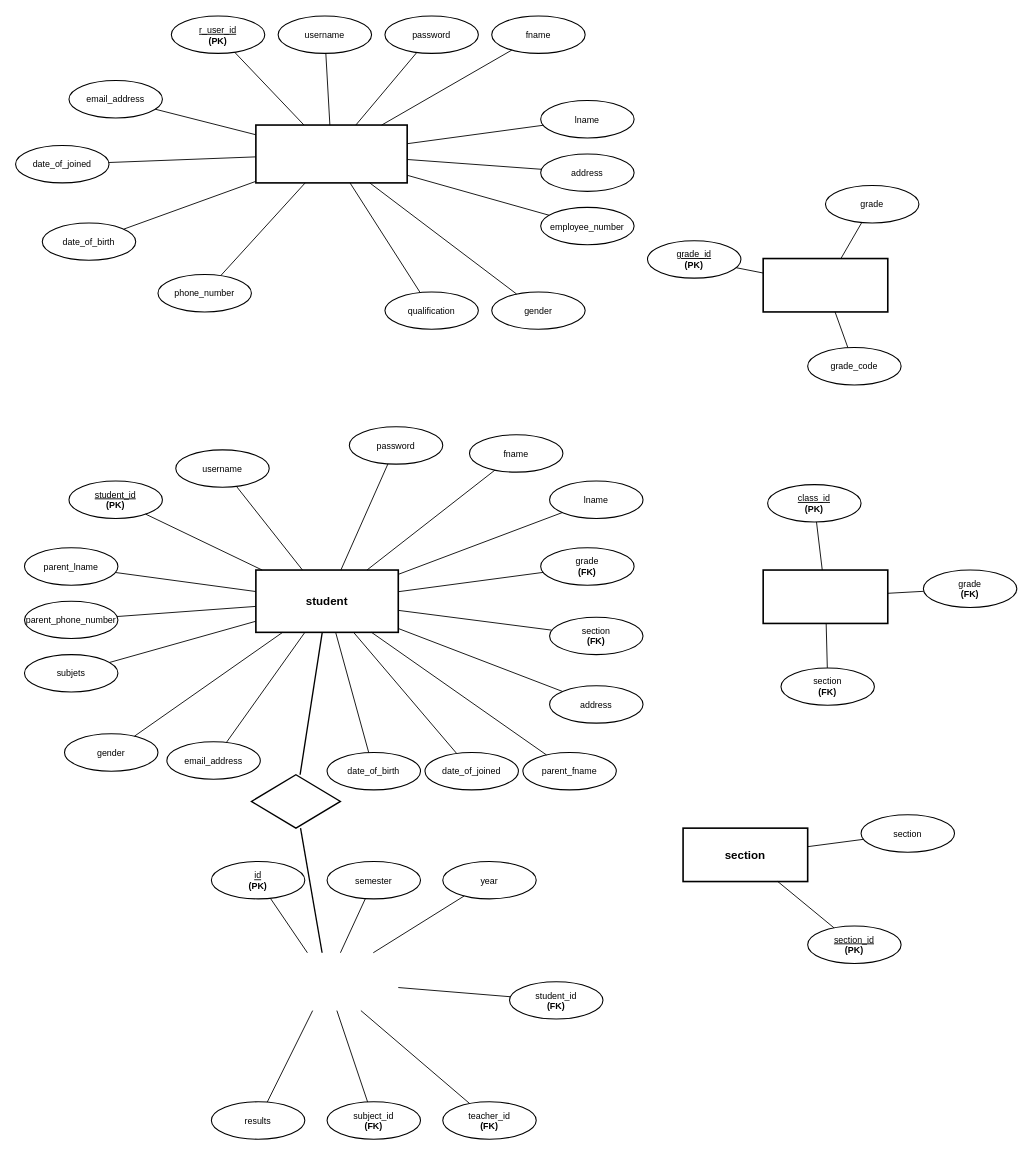
Image size: 1033x1155. Some labels were removed from this diagram. The centre of each missing label's shape, as x and y in pixels:
class: the point at 825,596
grades: the point at 825,284
receives: the point at 295,801
registrar_office: the point at 331,153
